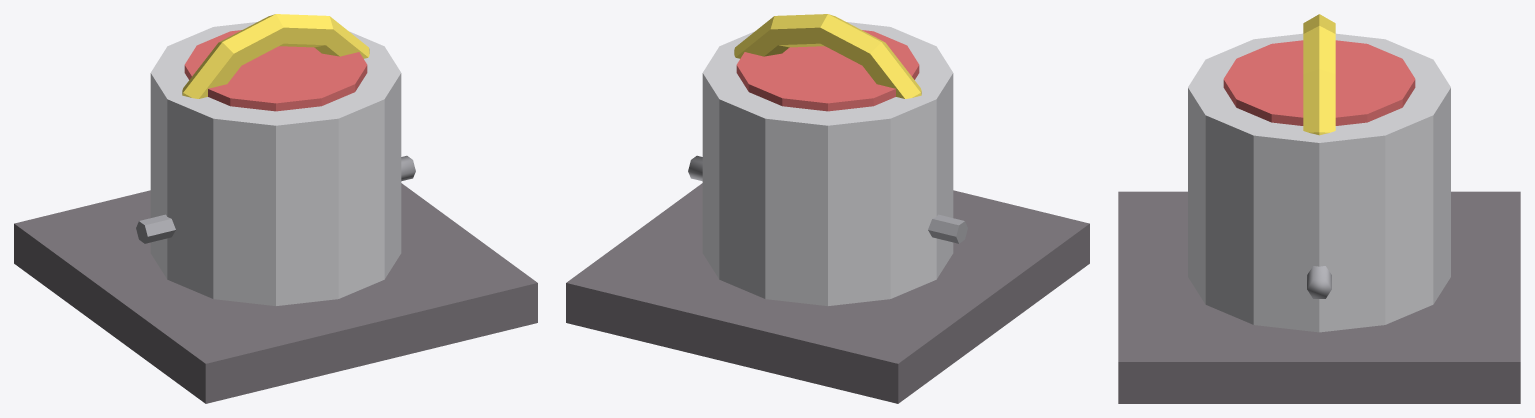
File: generator.glb
3 renders of one model, left to right at view 1: azimuth 30°, elevation 25°; view 2: azimuth 150°, elevation 25°; view 3: azimuth 270°, elevation 25°, orthographic. The views are drawn at different scales.
Parts seen in each view (by area): view 1: Tank, Base, Cap, Ring, Cylinder; view 2: Tank, Base, Cap, Ring, Cylinder; view 3: Tank, Base, Cap, Ring, Cylinder.001.
Boxes of the visible parts, box(x1,y1,x2,y2) form: Tank: box(150, 22, 401, 305); Base: box(14, 183, 537, 403); Cap: box(184, 30, 367, 111); Ring: box(182, 14, 369, 98); Cylinder: box(136, 214, 175, 243); Tank: box(702, 22, 953, 305); Base: box(566, 183, 1089, 403); Cap: box(736, 30, 919, 111); Ring: box(734, 14, 921, 98); Cylinder: box(928, 214, 967, 243); Tank: box(1188, 33, 1450, 332); Base: box(1118, 191, 1520, 403); Cap: box(1223, 40, 1415, 125); Ring: box(1303, 14, 1335, 135); Cylinder.001: box(1307, 266, 1331, 298).
Bounding box in the file's own units: 2.6 × 2.09 × 2.6.
